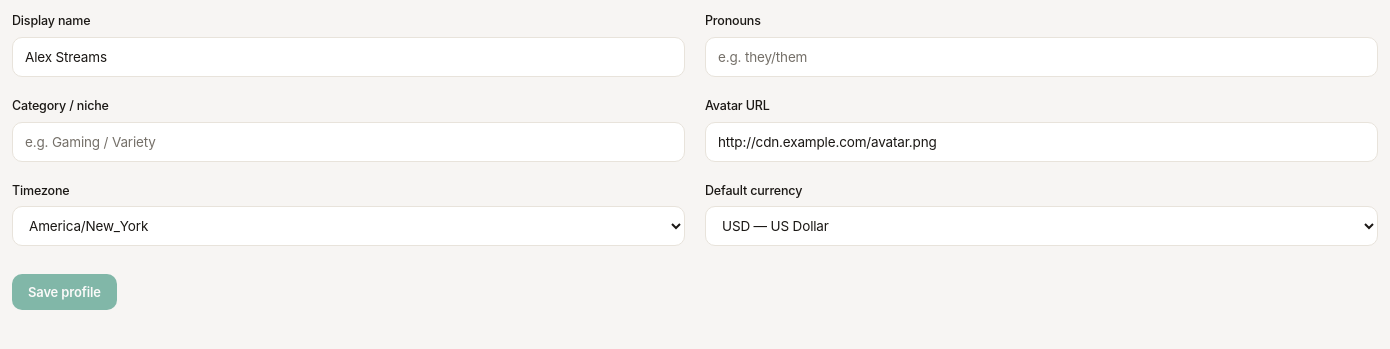
Scenario: ProfilePanel › avatarUrl scheme validation › blocks an unrelated edit while a stored http:// avatar is still in the form
Replace the text in the field labelled "Display name" with "Alex Renamed": (348, 57) [12,37,685,77]
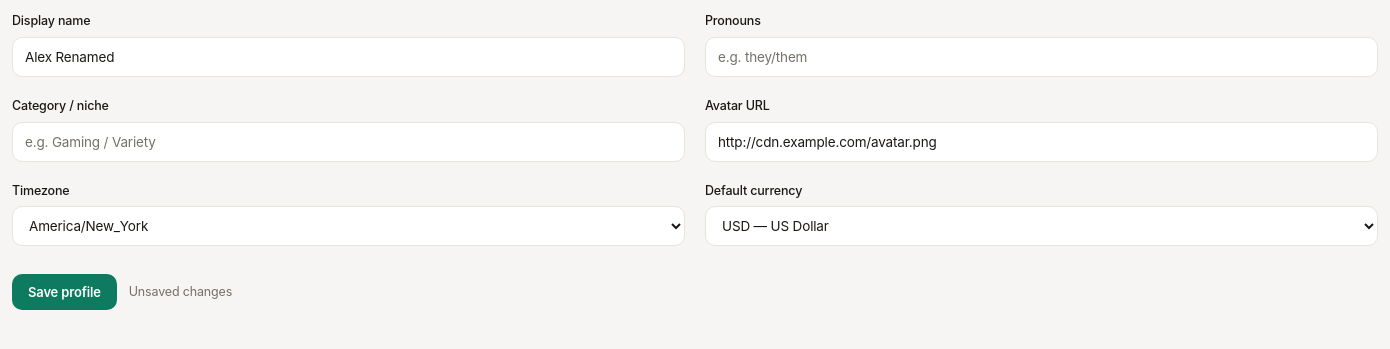
Click the button "Save profile": (64, 292) [12,274,117,310]
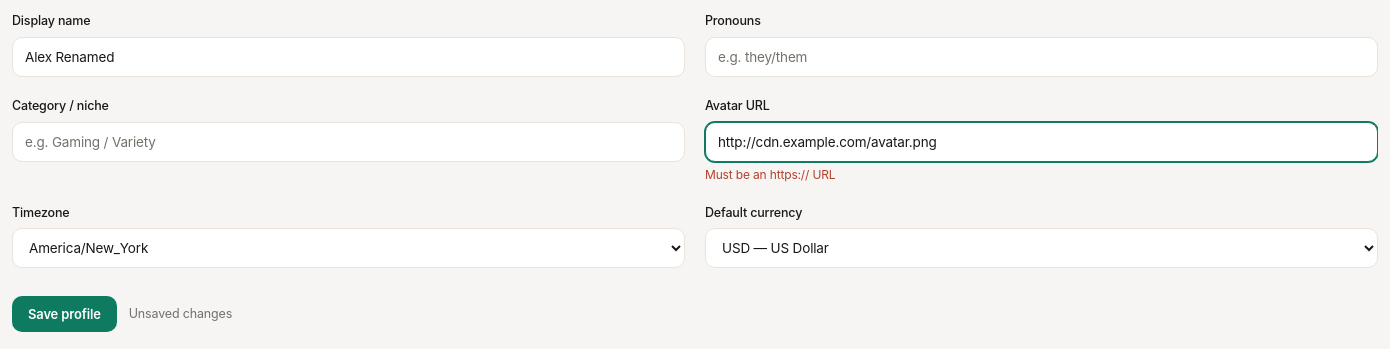
Result: the text "Must be an https:// URL" is shown at [705,166,835,182]
